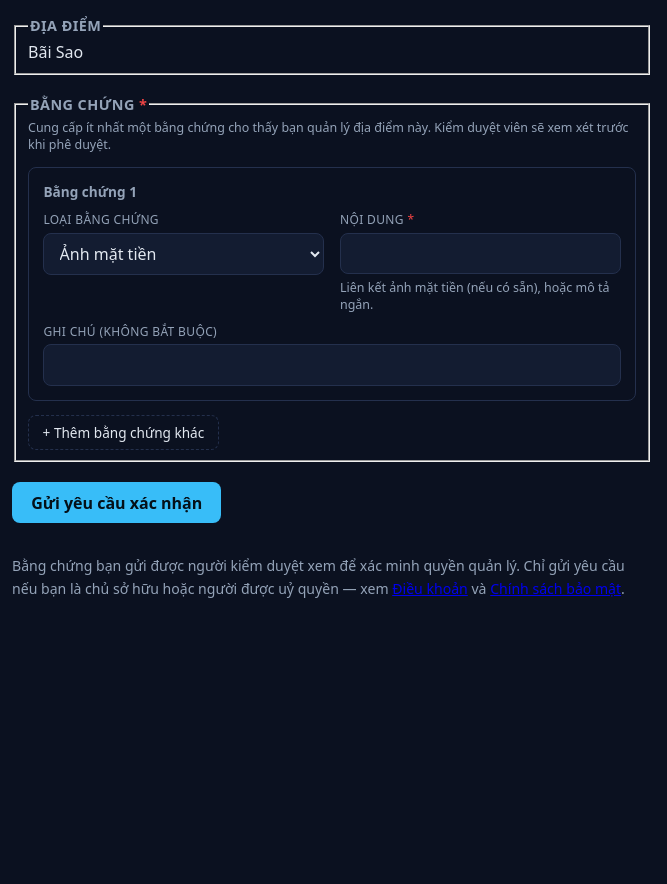
Test: ClaimForm — danh sách bằng chứng động › thêm mục → xuất hiện mục mới, có nút Xoá
Click the button "+ Thêm bằng chứng khác" at (123, 433), box [28,415,219,450]
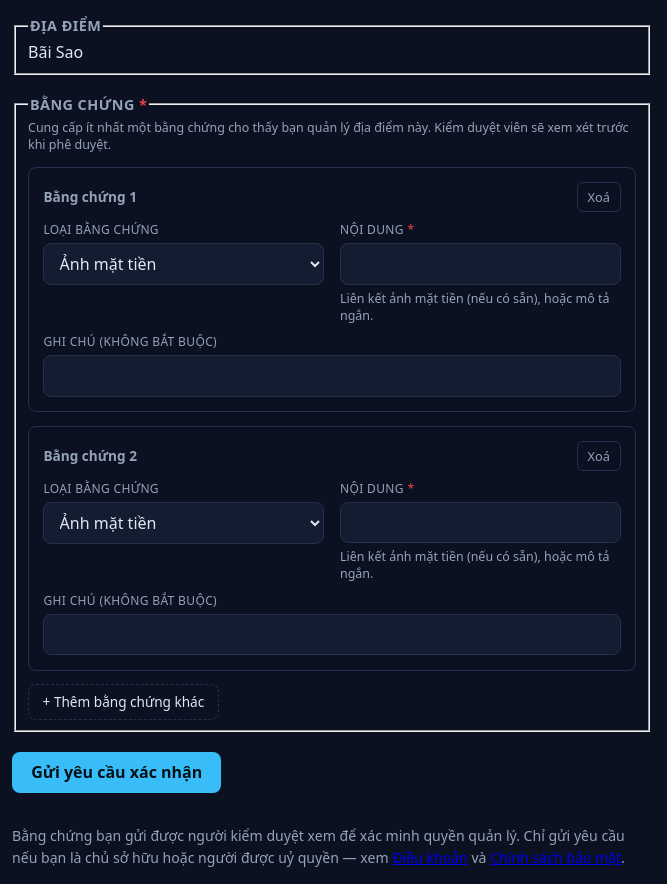
Now the text "Bằng chứng 2" is shown, box [43,446,137,465]
Now the number of buttons "Xoá" is 2, box [577,182,621,212]; [577,441,621,470]
